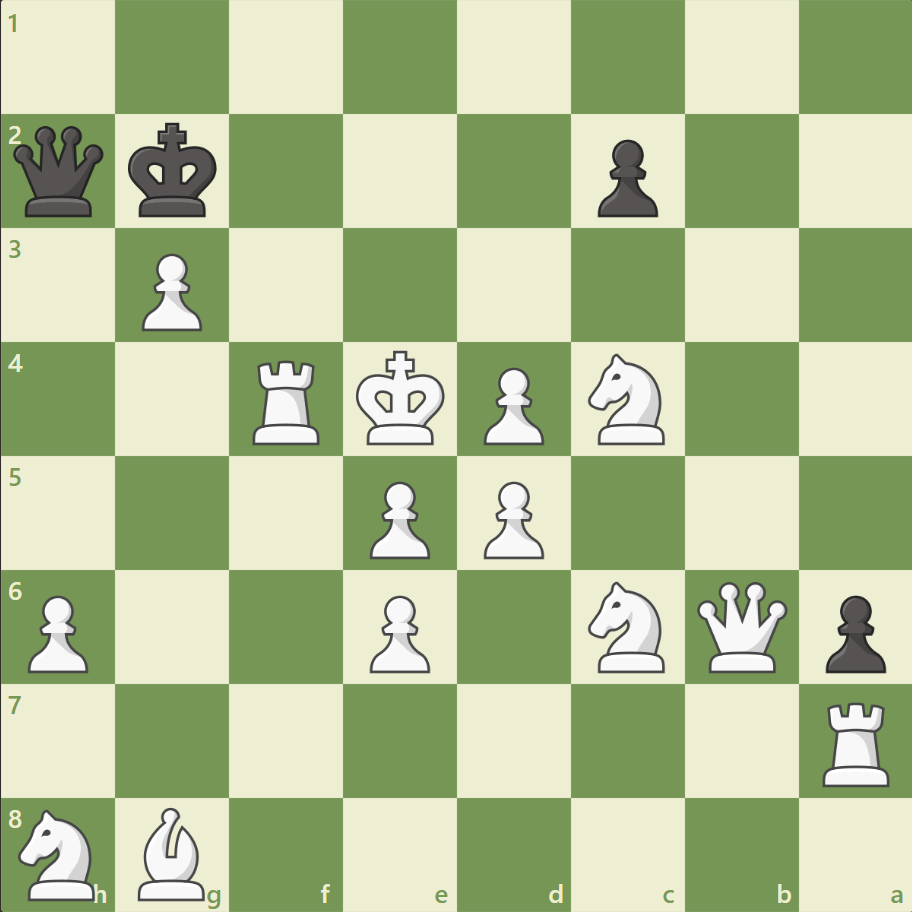B: (131, 801, 215, 904)
K: (351, 344, 451, 452)
N: (11, 802, 108, 904), (579, 575, 676, 677), (579, 348, 676, 450)
P: (20, 586, 95, 677), (474, 473, 549, 564), (474, 359, 549, 450), (133, 246, 208, 337), (361, 586, 435, 677), (361, 473, 435, 564)
Q: (691, 576, 790, 676)
R: (814, 693, 897, 790), (246, 352, 329, 449)
k: (124, 117, 224, 225)
p: (815, 586, 889, 677), (588, 132, 662, 223)
q: (10, 122, 109, 222)
